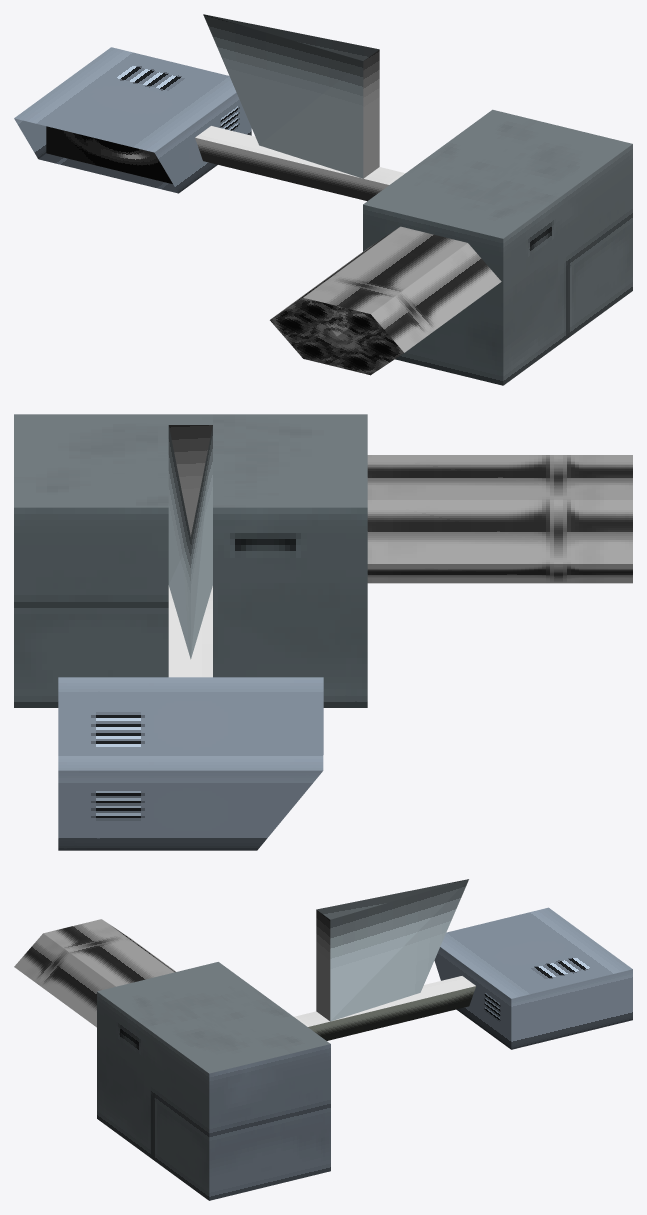
Rendered from primary_033.glb.
3 renders of one model, top to bottom at view 1: azimuth 30°, elevation 25°; view 2: azimuth 150°, elevation 25°; view 3: azimuth 270°, elevation 25°, orthographic. The views are drawn at different scales.
Parts seen in each view (by area): view 1: Object; view 2: Object; view 3: Object.
Part boxes in pixels (x1,y1,x2,y2): Object: (14, 14, 632, 385); Object: (14, 414, 632, 850); Object: (14, 879, 632, 1200).
Bounding box in the file's own units: 1.7 × 0.9046 × 2.49.
Materials: 19 (19 with a texture image).
